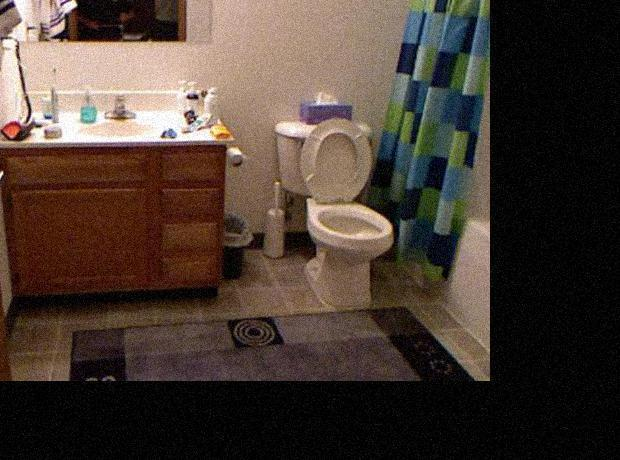Bote de Basura: (219, 206, 254, 280)
Ducha: (412, 0, 489, 318)
Lavamanos: (76, 82, 156, 149)
Sanitario: (273, 115, 392, 314)
